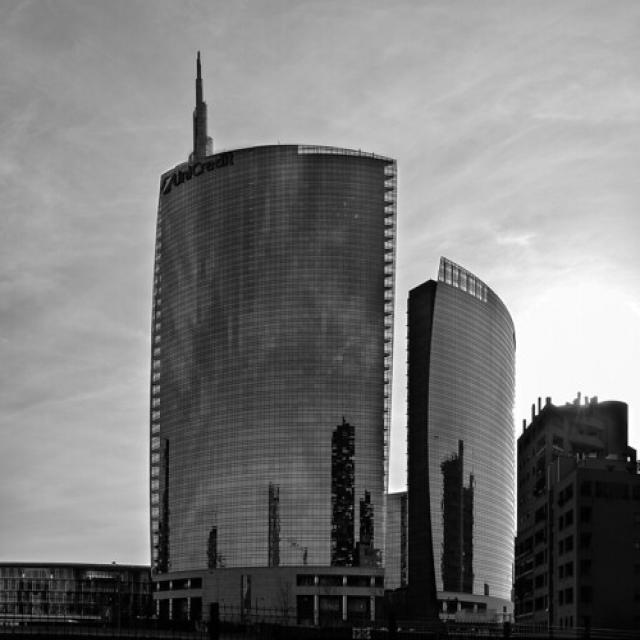Normal_building: (143, 137, 401, 607), (406, 252, 520, 634)
